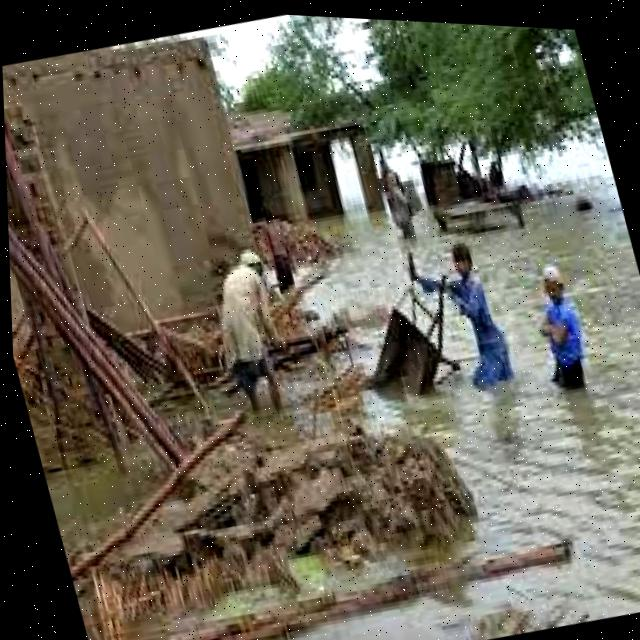civilian: (190, 235, 322, 418), (430, 231, 522, 396), (519, 256, 601, 400), (366, 155, 428, 261)
